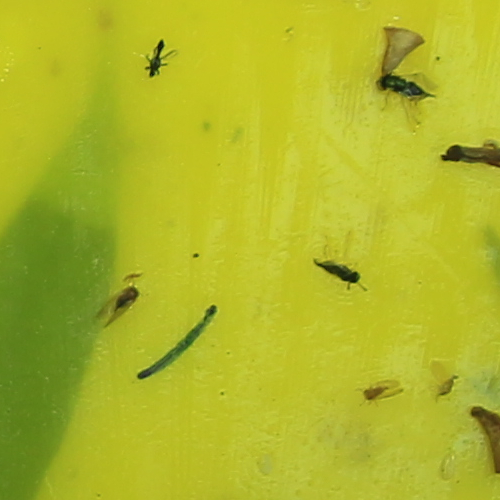Psyllaephagus: (381, 74, 434, 99)
psylla: (112, 284, 139, 312), (359, 385, 391, 399)
